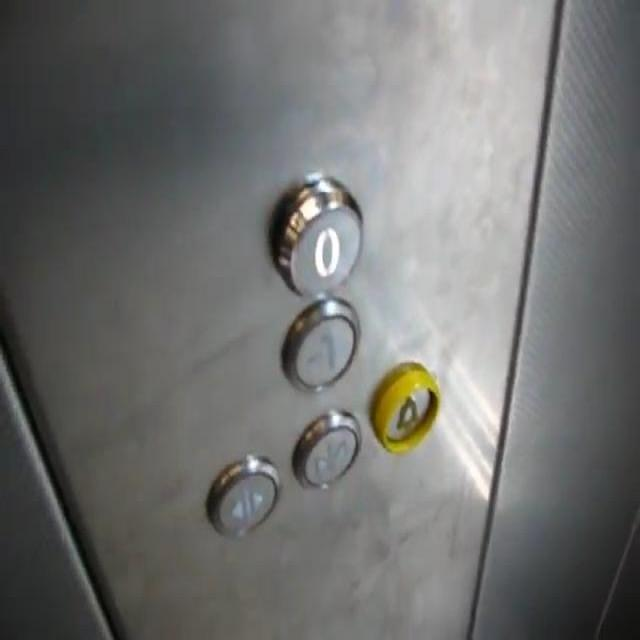-1: (279, 294, 361, 394)
0: (266, 169, 364, 300)
alarm: (367, 357, 440, 452)
close: (288, 404, 362, 492)
open: (203, 451, 282, 540)
